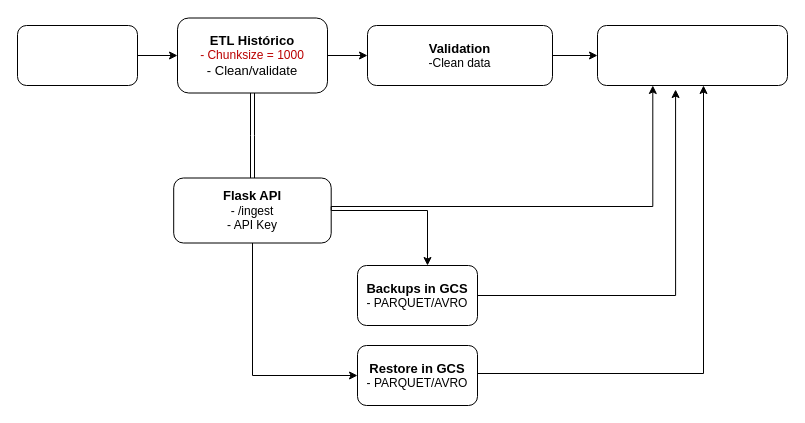
Image size: 805x423. Some labels were removed from this diagram. The shapes that lost their labels are listed below. From the top down, each one's centre as x and y in pixels, then its label:
(x=77, y=55): Archivos CSV (/app/data/*.csv)
(x=692, y=55): BigQuery Clean tables
